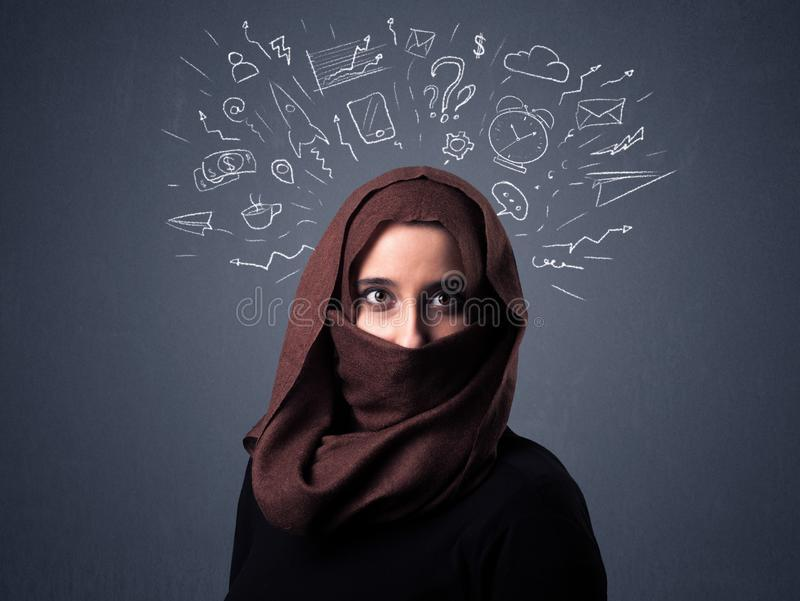No Mask: (280, 151, 580, 506)
